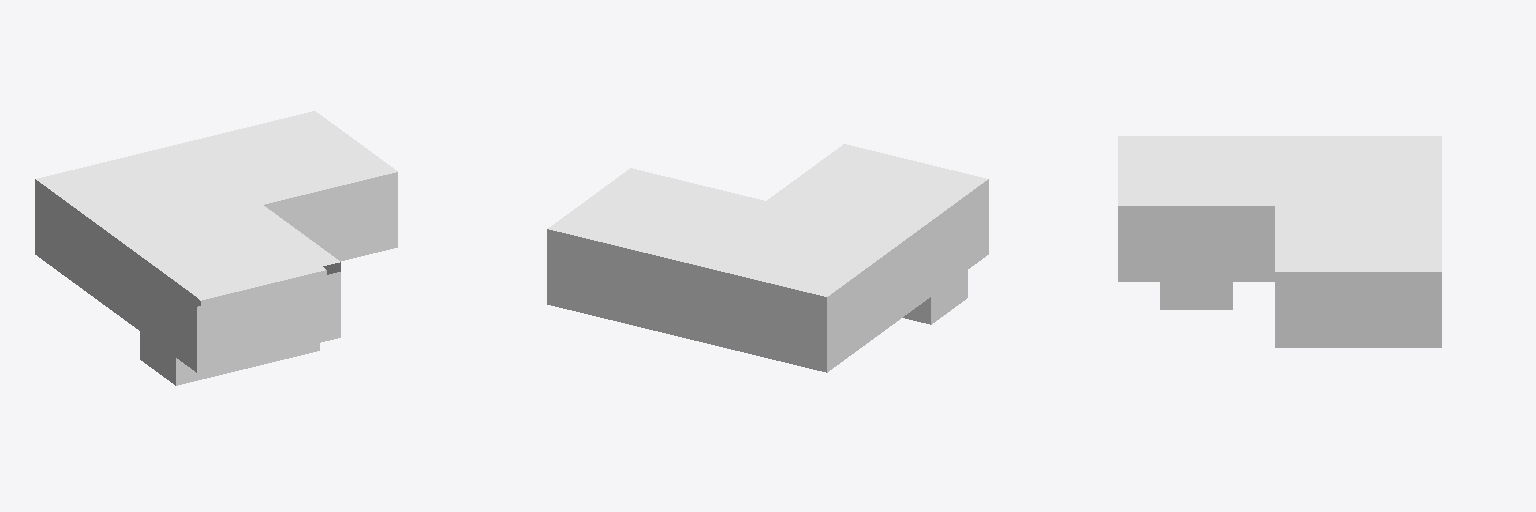
File: rev2experimental.obj
The picture shows the model from 3 angles: view 1: azimuth 30°, elevation 25°; view 2: azimuth 150°, elevation 25°; view 3: azimuth 270°, elevation 25°; orthographic projection.
Visible parts, largest first — view 1: MaterialMesh; view 2: MaterialMesh; view 3: MaterialMesh.
Part boxes in pixels (bbox=[...]): MaterialMesh: bbox=[35, 111, 397, 385]; MaterialMesh: bbox=[547, 144, 988, 372]; MaterialMesh: bbox=[1118, 136, 1441, 347].
Size of the model in its own units: 31 by 11 by 31.